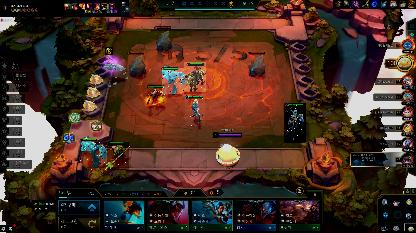1_jax: (107, 142, 129, 170)
1_olaf: (147, 84, 165, 108)
1_rell: (184, 62, 206, 92)
1_zac: (80, 138, 106, 170), (162, 68, 184, 94)
2_ezreal: (185, 94, 205, 126)
2_kaisa: (284, 103, 306, 143)
